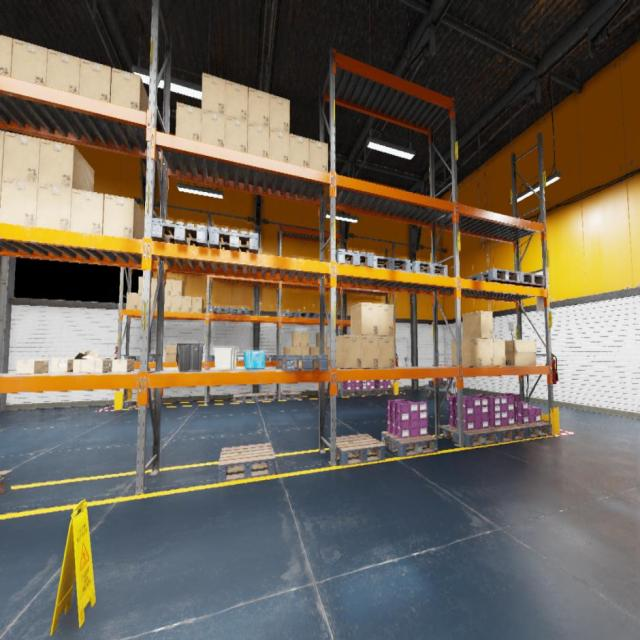box: (38, 139, 94, 191), (3, 132, 41, 183), (104, 194, 145, 239), (0, 178, 38, 226), (11, 39, 48, 86), (110, 67, 148, 112), (36, 184, 72, 230), (46, 49, 80, 95), (70, 189, 104, 234), (79, 58, 112, 102), (247, 87, 270, 139), (202, 72, 226, 115), (176, 102, 202, 141), (225, 80, 248, 122), (351, 302, 378, 336), (202, 109, 226, 147), (451, 338, 482, 366), (336, 335, 362, 368), (462, 311, 493, 338), (504, 340, 536, 366), (270, 93, 290, 133), (225, 116, 247, 152), (247, 123, 269, 158), (289, 133, 309, 167), (269, 128, 289, 162), (309, 139, 328, 171), (73, 350, 99, 372), (0, 35, 13, 77), (362, 336, 379, 368), (16, 360, 48, 375), (378, 304, 393, 336), (379, 336, 394, 368), (86, 358, 112, 373), (481, 338, 494, 366), (51, 359, 74, 372), (494, 339, 505, 366), (112, 359, 134, 372), (0, 130, 5, 178), (171, 280, 184, 295), (165, 345, 176, 362), (192, 297, 204, 312), (127, 293, 138, 309), (171, 295, 181, 312), (182, 296, 192, 312), (316, 333, 326, 346), (291, 333, 301, 346), (164, 279, 172, 295), (150, 295, 158, 310), (164, 295, 171, 311), (151, 278, 157, 294), (302, 333, 309, 346), (309, 346, 319, 354), (284, 346, 293, 354), (138, 276, 142, 294), (293, 346, 301, 354), (138, 294, 142, 309), (302, 346, 309, 354), (327, 347, 330, 360), (0, 177, 1, 209), (258, 248, 261, 254), (325, 348, 327, 353)
pallets: (218, 442, 276, 482), (329, 434, 385, 466), (151, 217, 210, 247), (381, 432, 438, 457), (443, 424, 499, 447), (209, 227, 258, 253), (327, 249, 374, 268), (466, 268, 520, 284), (279, 355, 328, 371), (487, 424, 527, 443), (498, 272, 544, 288), (373, 255, 411, 272), (515, 422, 552, 439), (410, 261, 448, 276), (124, 398, 154, 409), (0, 469, 12, 493), (233, 393, 255, 402), (254, 392, 276, 401), (280, 392, 302, 401), (429, 381, 456, 388), (317, 390, 340, 398), (125, 356, 155, 362), (339, 389, 362, 396), (209, 306, 229, 314), (374, 387, 394, 395), (230, 307, 249, 315), (359, 388, 378, 396), (281, 310, 298, 318), (317, 313, 337, 319), (298, 312, 317, 317), (265, 355, 276, 361), (236, 355, 244, 361), (209, 354, 214, 362)
